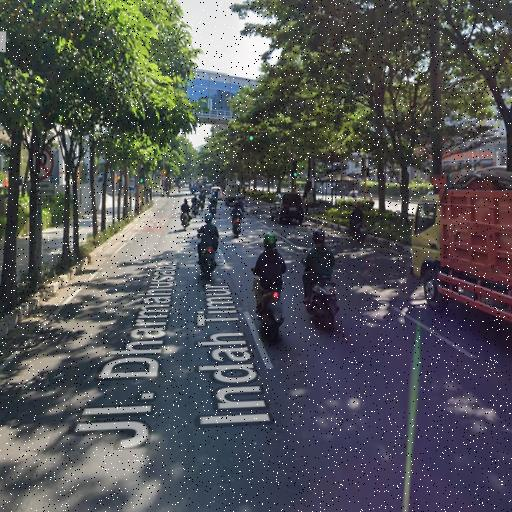Helmet: (263, 232, 277, 248), (313, 229, 325, 244), (204, 212, 212, 224), (235, 201, 240, 208), (356, 203, 361, 208), (237, 194, 241, 200), (194, 192, 197, 198), (184, 198, 187, 204)
Motor: (305, 277, 339, 331), (258, 288, 284, 340), (200, 247, 216, 278), (350, 223, 367, 244), (233, 217, 241, 238), (182, 214, 190, 230), (209, 204, 216, 217), (192, 203, 198, 217), (350, 190, 357, 198), (200, 200, 204, 211), (179, 186, 180, 193)
